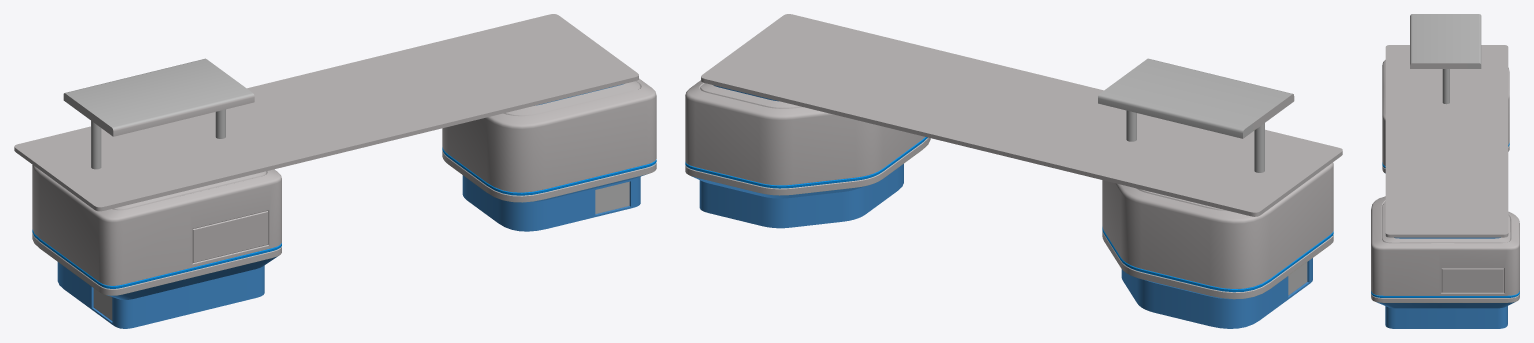
Rendered from LabDeskA.fbx.
3 views of the same model, side by side, from view 1: azimuth 30°, elevation 25°; view 2: azimuth 150°, elevation 25°; view 3: azimuth 270°, elevation 25° (orthographic). The views are drawn at different scales.
Visible parts, largest first — view 1: LabDeskA; view 2: LabDeskA; view 3: LabDeskA.
Boxes of the visible parts, <box> form: LabDeskA: <box>14,14,656,328</box>; LabDeskA: <box>685,14,1342,328</box>; LabDeskA: <box>1371,14,1519,328</box>.
Bounding box in the file's own units: 360 × 117 × 117.
